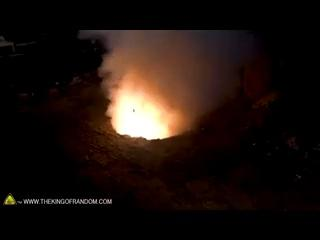Fire: (113, 80, 177, 141)
